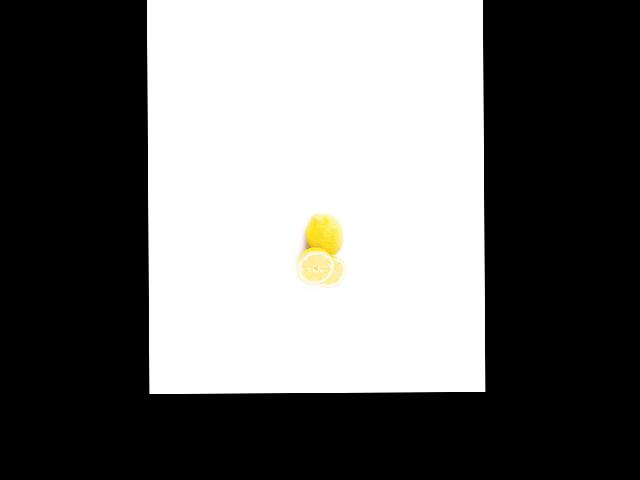lemon: (304, 210, 345, 256)
